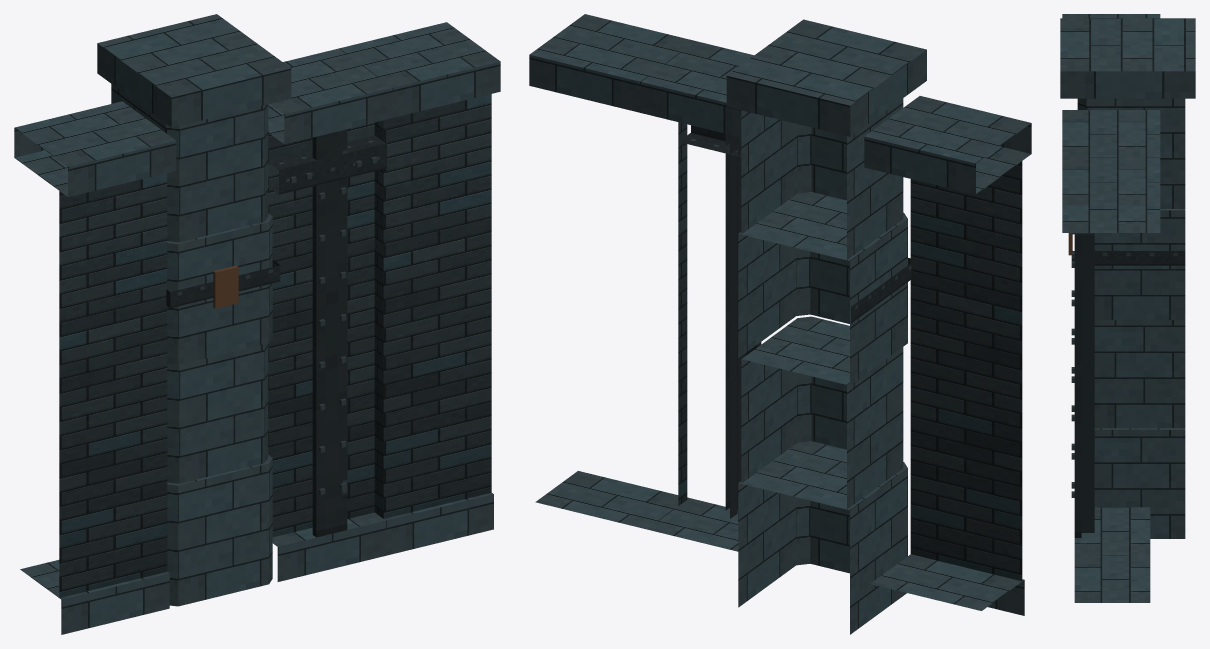
The model's file is T1_Start_B.fbx.
3 renders of one model, left to right at view 1: azimuth 30°, elevation 25°; view 2: azimuth 150°, elevation 25°; view 3: azimuth 270°, elevation 25°, orthographic. The views are drawn at different scales.
Visible parts, largest first — view 1: T1_Start_B; view 2: T1_Start_B; view 3: T1_Start_B.
Part boxes in pixels (x1=…): T1_Start_B: x1=14, y1=14, x2=500, y2=634; T1_Start_B: x1=529, y1=14, x2=1031, y2=634; T1_Start_B: x1=1060, y1=14, x2=1195, y2=602.
Size of the model in its own units: 4.5 by 5.15 by 1.34.
